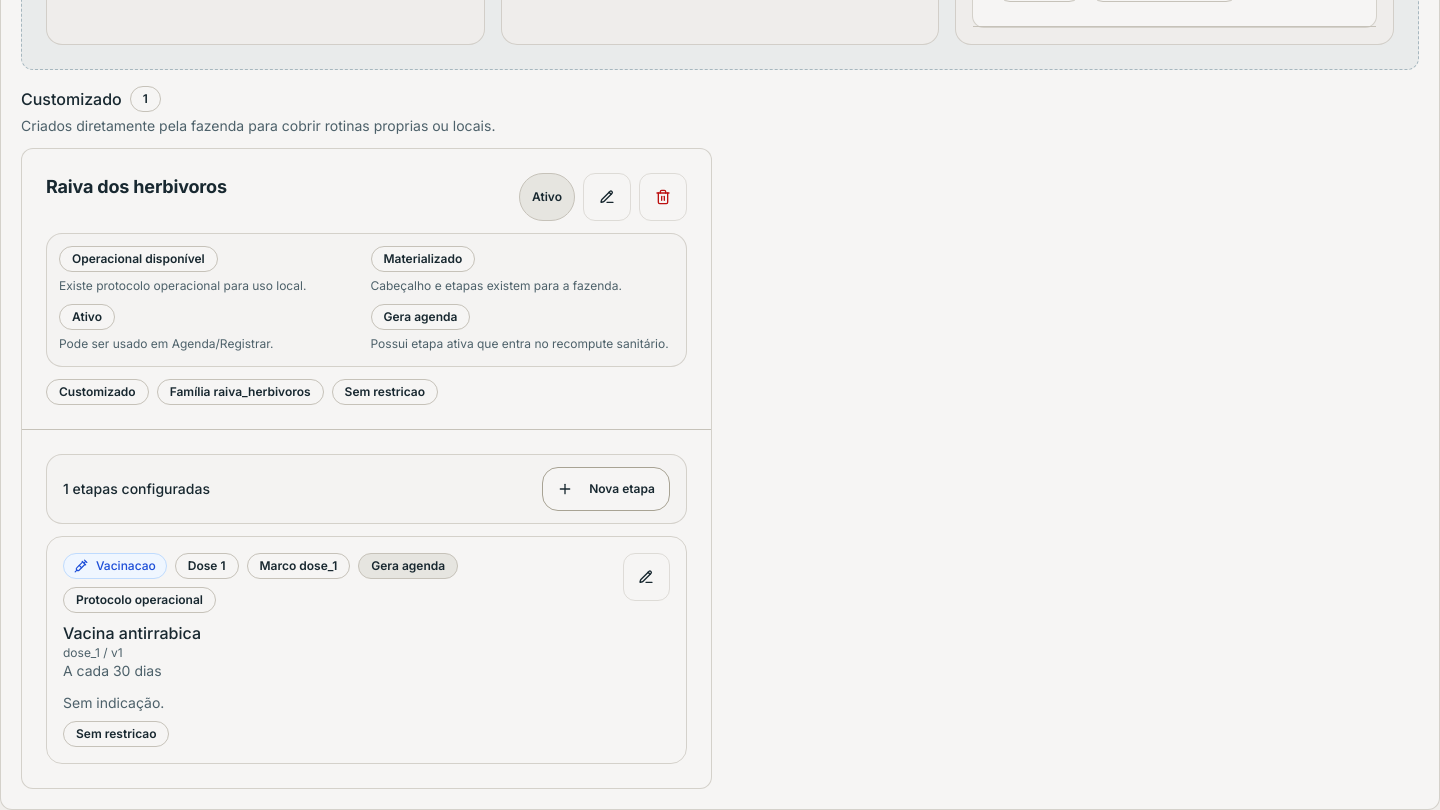
FarmProtocolManager › abre nova etapa com contexto de familia, milestone sequencial e dedup sugerido
(page scrolled)
Click the button "Nova etapa". click: (606, 489)
box: [542,467,670,511]
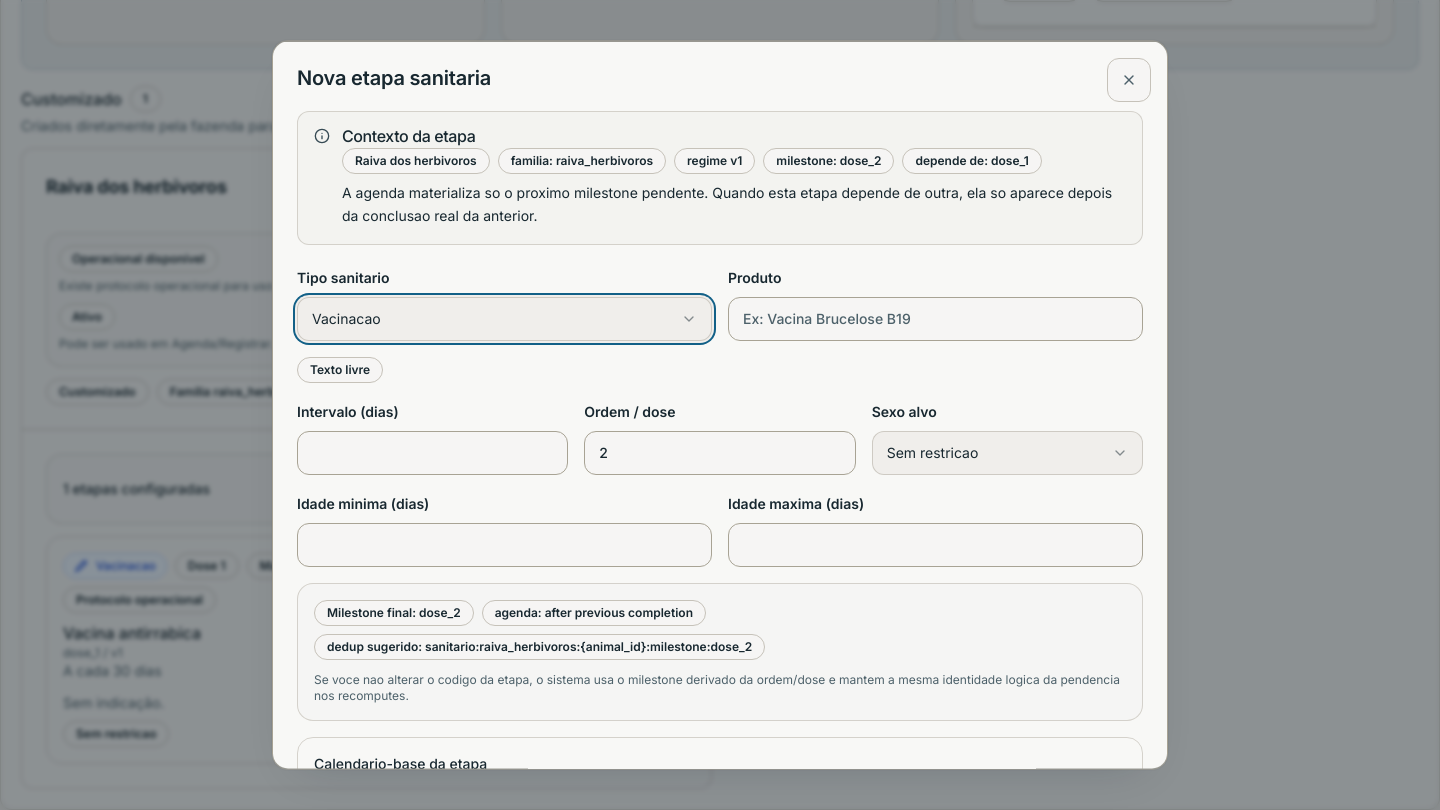
expect the heading "Contexto da etapa" is shown: met, box [342,126,475,146]
expect the dialog shows "familia: raiva_herbivoros": met, box [272,40,1168,770]
expect the dialog shows "milestone: dose_2": met, box [272,40,1168,770]
